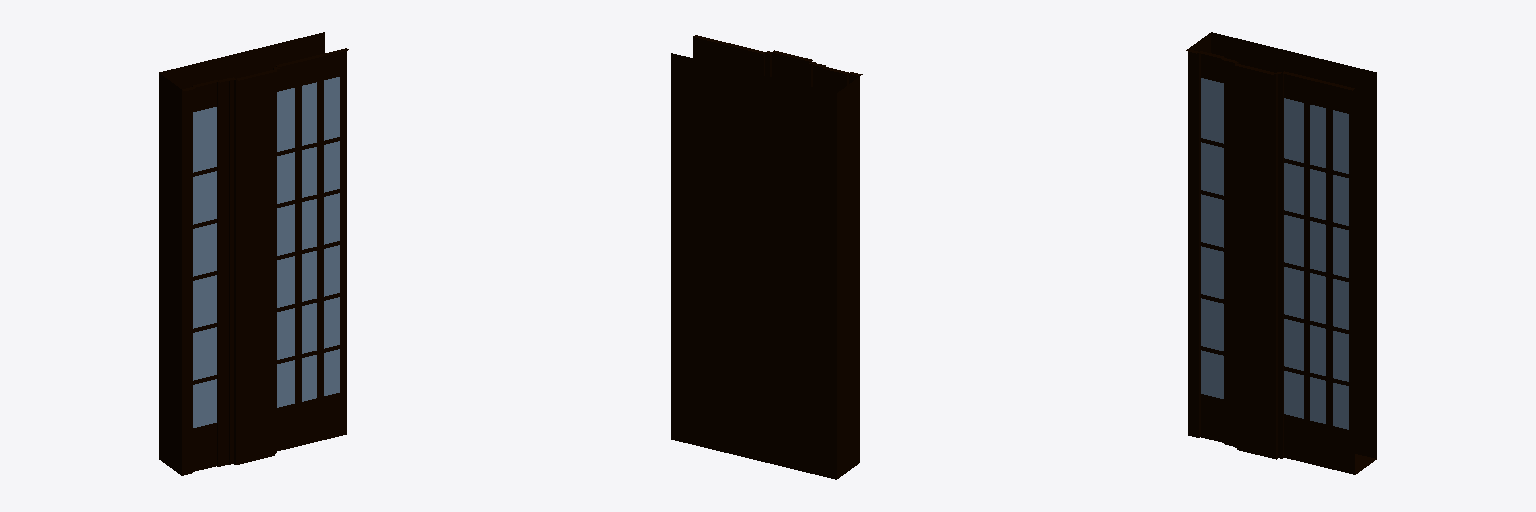
The model's file is MainDoorLeft1.obj.
3 renders of one model, left to right at view 1: azimuth 30°, elevation 25°; view 2: azimuth 150°, elevation 25°; view 3: azimuth 330°, elevation 25°, orthographic.
Parts seen in each view (by area): view 1: Cube.024; view 2: Cube.024; view 3: Cube.024.
Boxes of the visible parts, box(x1,y1,x2,y2) form: Cube.024: box(159, 32, 348, 475); Cube.024: box(671, 35, 862, 479); Cube.024: box(1186, 32, 1376, 474).
Bounding box in the file's own units: 1.41 × 3.13 × 0.418.